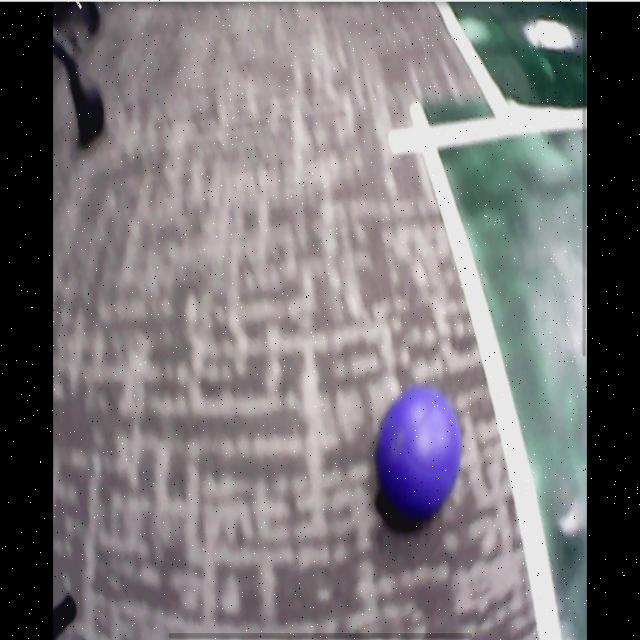ball: (378, 389, 462, 520)
